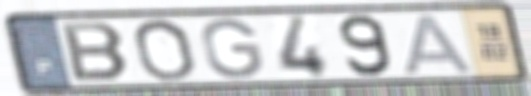4: (277, 14, 330, 80)
9: (337, 13, 395, 78)
A: (403, 12, 480, 76)
B: (58, 21, 134, 83)
G: (199, 16, 266, 81)
O: (129, 17, 199, 83)
